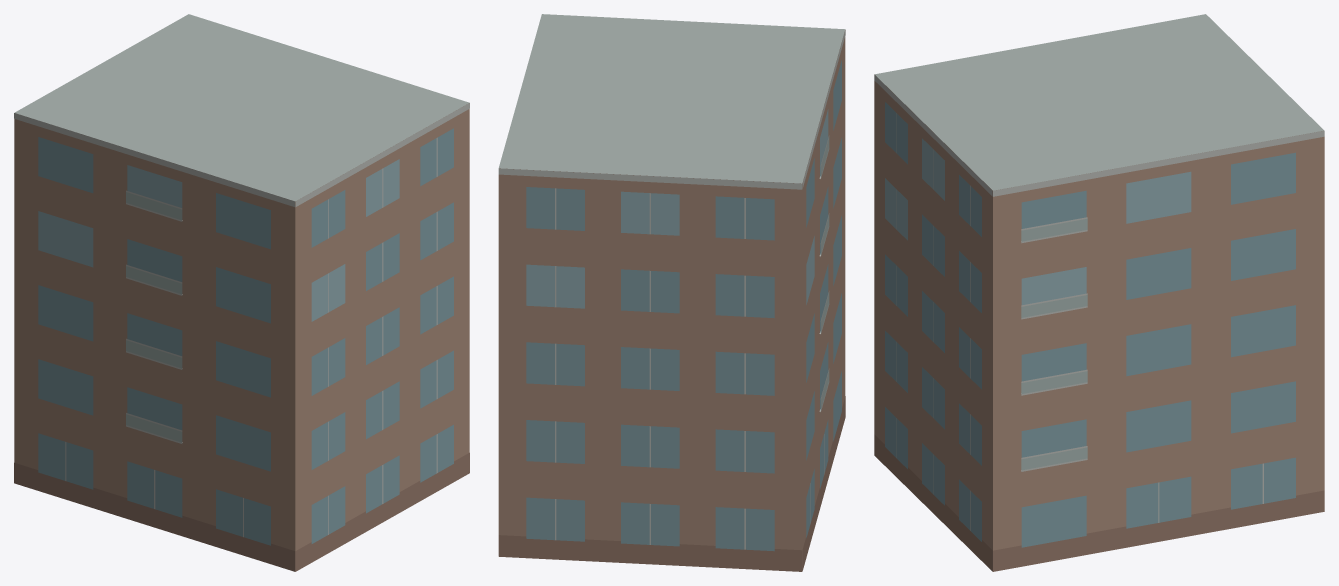
File: residential-983f5fc5-6af7-406a-b711-1f9c38812408.glb
The picture shows the model from 3 angles, left to right: view 1: azimuth 30°, elevation 25°; view 2: azimuth 150°, elevation 25°; view 3: azimuth 270°, elevation 25°; orthographic projection. The views are drawn at different scales.
Parts seen in each view (by area): view 1: residential-983f5fc5-6af7-406a-b711-1f9c38812408.tmp; view 2: residential-983f5fc5-6af7-406a-b711-1f9c38812408.tmp; view 3: residential-983f5fc5-6af7-406a-b711-1f9c38812408.tmp.
Part boxes in pixels (x1,y1,x2,y2): residential-983f5fc5-6af7-406a-b711-1f9c38812408.tmp: [14, 14, 469, 571]; residential-983f5fc5-6af7-406a-b711-1f9c38812408.tmp: [498, 14, 845, 571]; residential-983f5fc5-6af7-406a-b711-1f9c38812408.tmp: [874, 14, 1324, 571].
Size of the model in its own units: 15.18 by 15.25 by 16.33.
